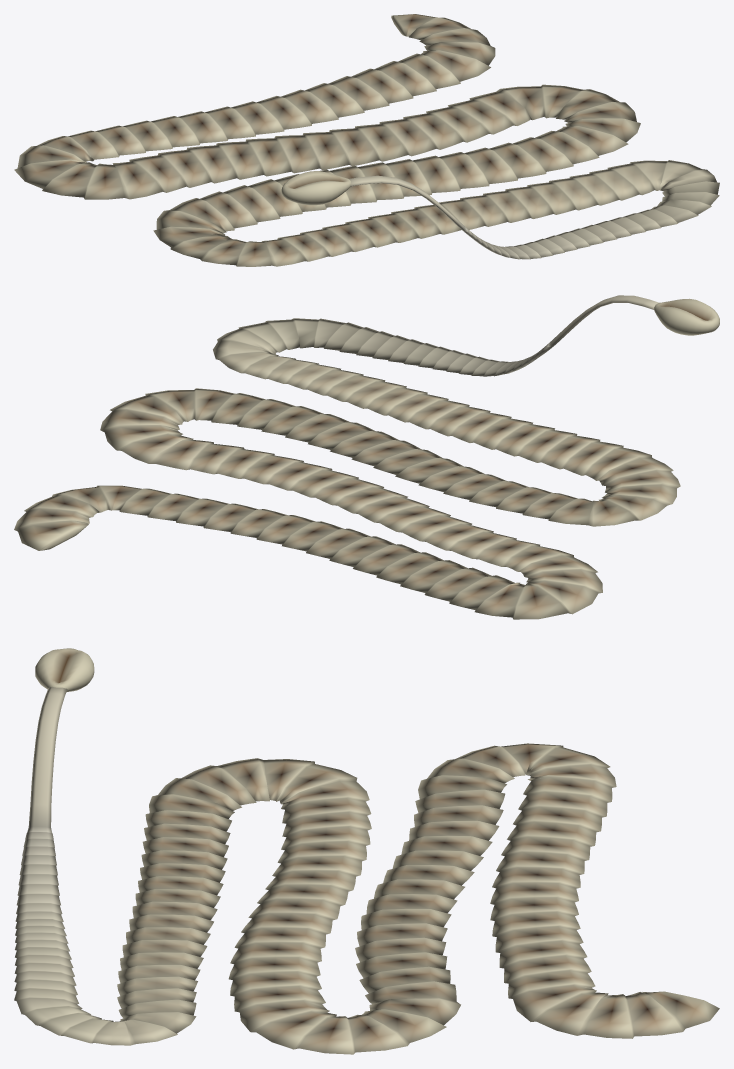
Rendered from Spirometra.fbx.
3 renders of one model, top to bottom at view 1: azimuth 30°, elevation 25°; view 2: azimuth 150°, elevation 25°; view 3: azimuth 270°, elevation 25°, orthographic. The views are drawn at different scales.
Parts seen in each view (by area): view 1: Spirometra; view 2: Spirometra; view 3: Spirometra.
Boxes of the visible parts, bbox=[...] form: Spirometra: bbox=[14, 14, 719, 266]; Spirometra: bbox=[14, 295, 719, 619]; Spirometra: bbox=[14, 648, 719, 1054].
Bounding box in the file's own units: 1.04 × 0.232 × 0.9915.
